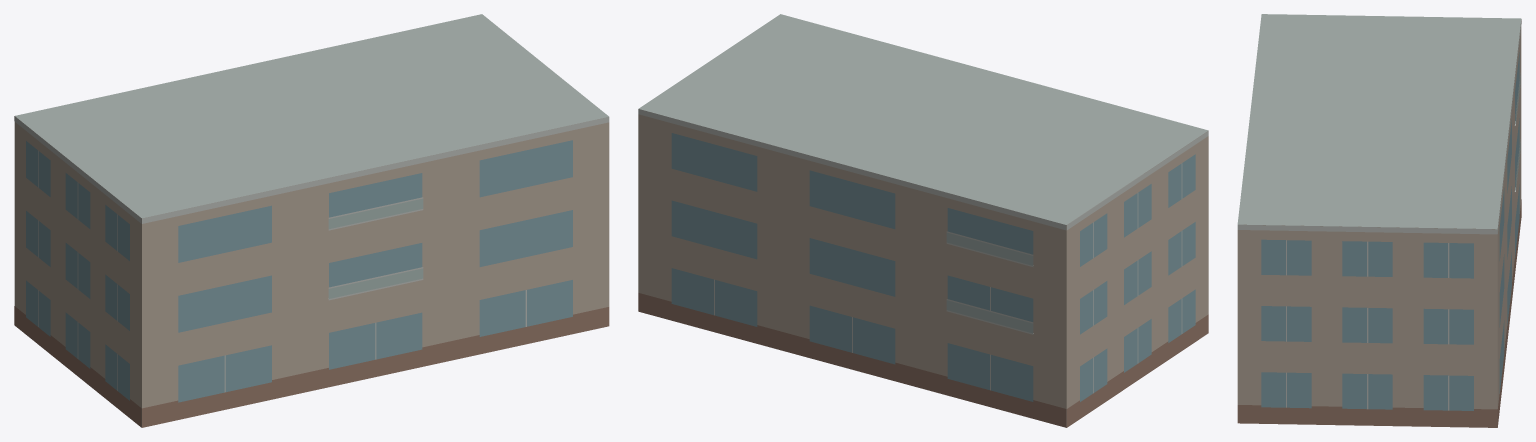
Rendered from survey-upis-32768481.glb.
3 renders of one model, left to right at view 1: azimuth 30°, elevation 25°; view 2: azimuth 150°, elevation 25°; view 3: azimuth 270°, elevation 25°, orthographic. The views are drawn at different scales.
Parts seen in each view (by area): view 1: survey-upis-32768481.tmp; view 2: survey-upis-32768481.tmp; view 3: survey-upis-32768481.tmp.
Boxes of the visible parts, bbox=[...] form: survey-upis-32768481.tmp: bbox=[14, 14, 609, 427]; survey-upis-32768481.tmp: bbox=[638, 14, 1208, 427]; survey-upis-32768481.tmp: bbox=[1237, 14, 1521, 427].
Size of the model in its own units: 21.26 by 9.15 by 11.86.
